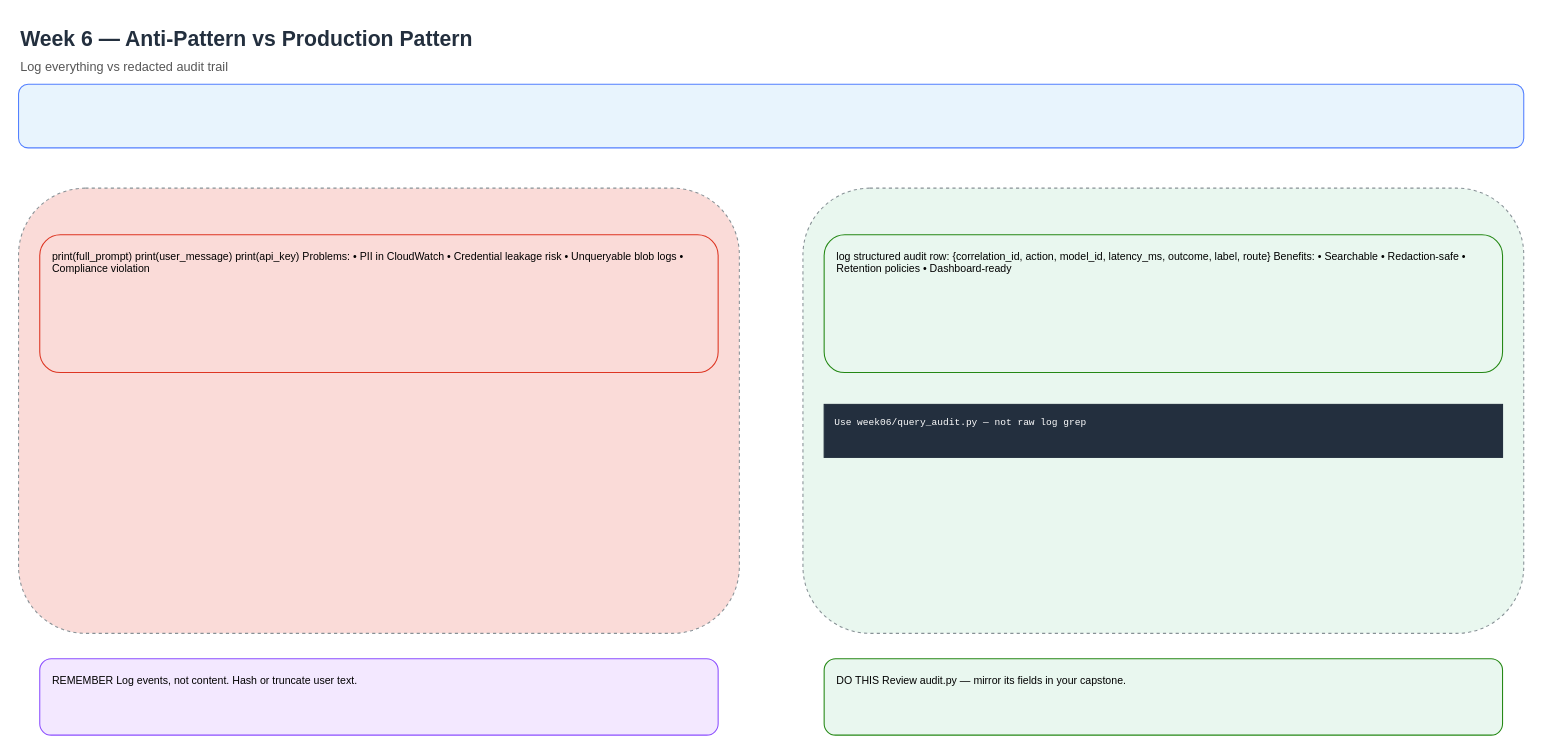
Image size: 1542x754. Some labels were removed from this diagram. The box of each missing label's shape, as (x1, y1, x2, y2) in pixels:
ANTI-PATTERN — Log Everything: (17, 187, 739, 633)
PRODUCTION — Structured Audit: (802, 187, 1524, 633)
YOUR GOAL Logging choices affect compliance, cost, and incident response.: (17, 83, 1524, 148)
